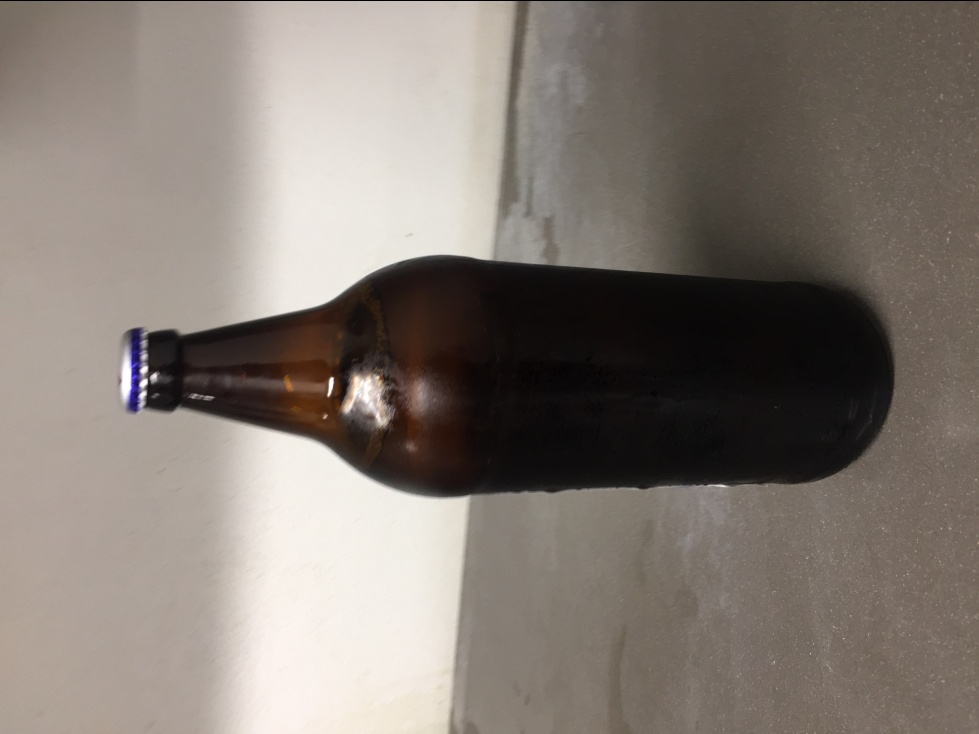tecateC: (117, 246, 893, 500)
